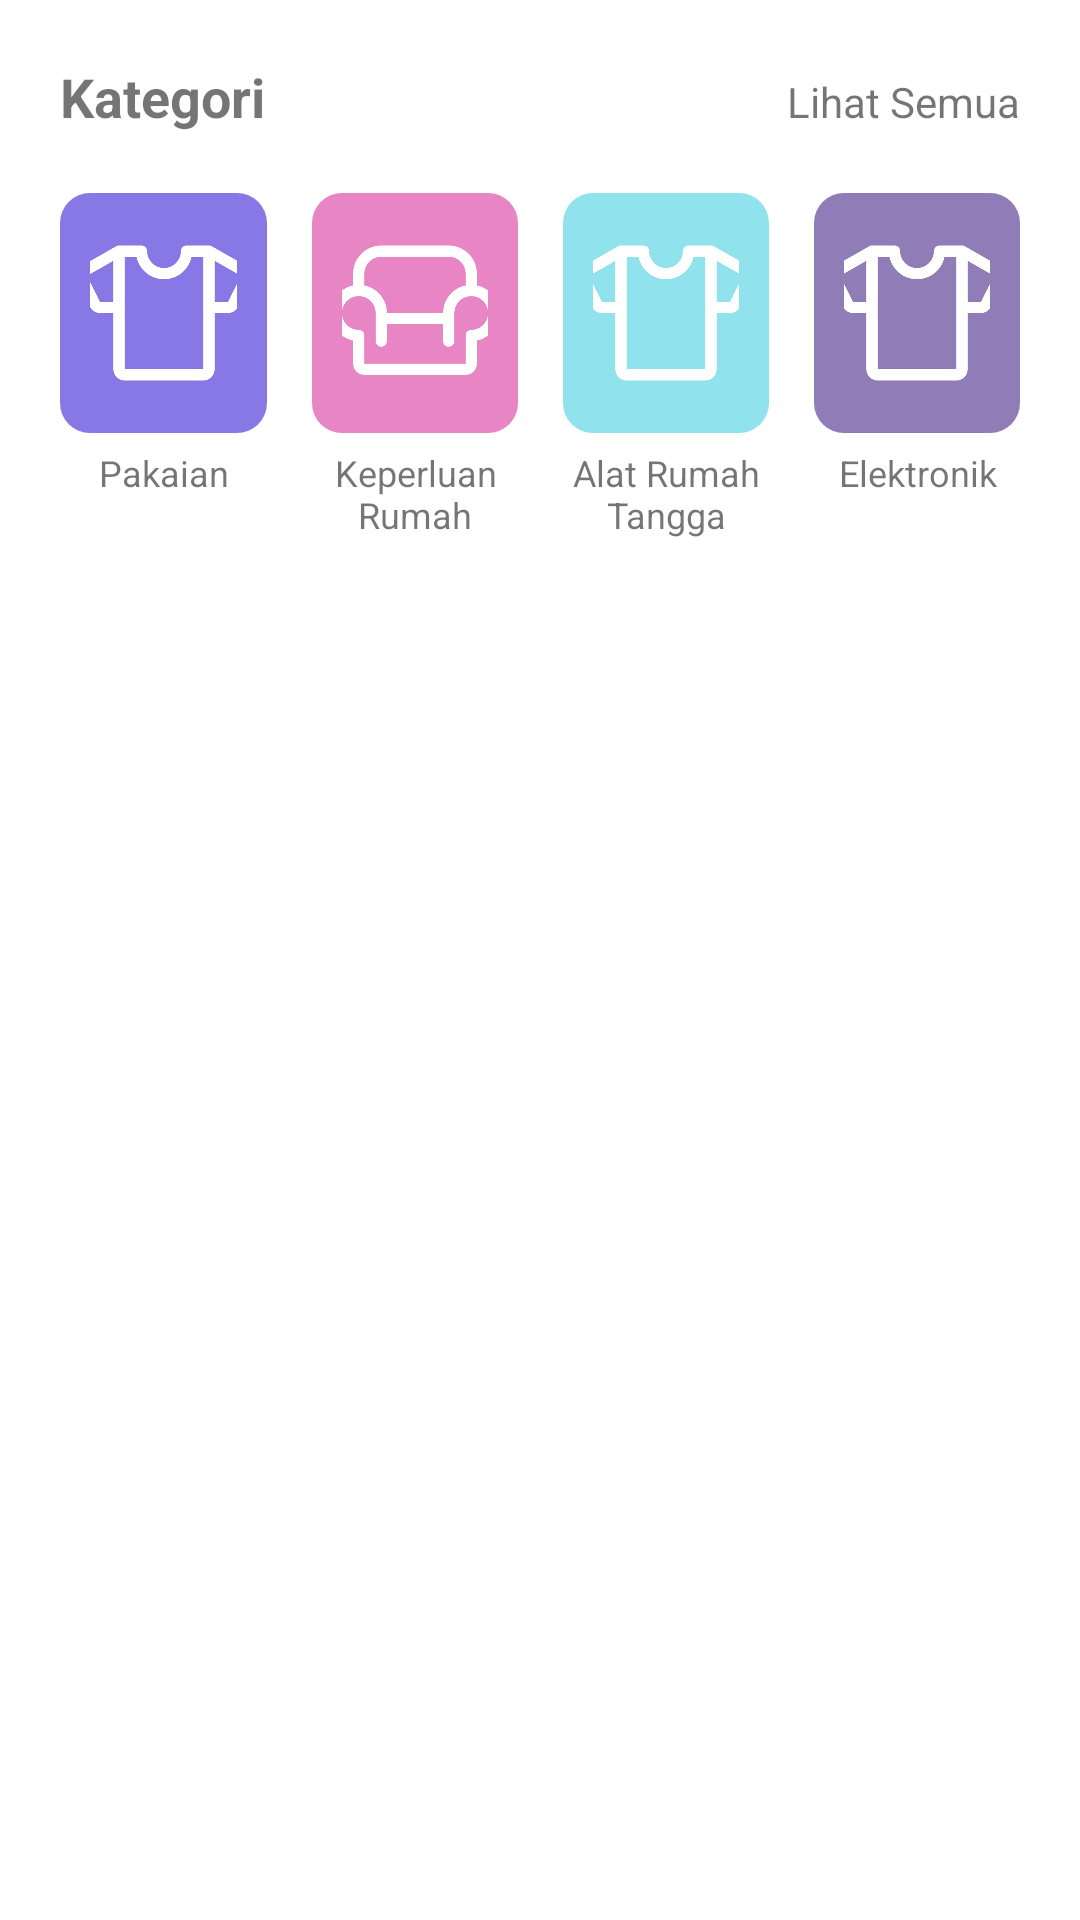

Named icons in this screenshot (1080 × 1920) and their bounding boxes, {"left": x1, "top": y1, "right": x2, "bottom": y2}:
armchair: {"left": 342, "top": 245, "right": 488, "bottom": 375}
shirt: {"left": 90, "top": 245, "right": 237, "bottom": 381}, {"left": 593, "top": 245, "right": 739, "bottom": 381}, {"left": 844, "top": 245, "right": 990, "bottom": 381}
